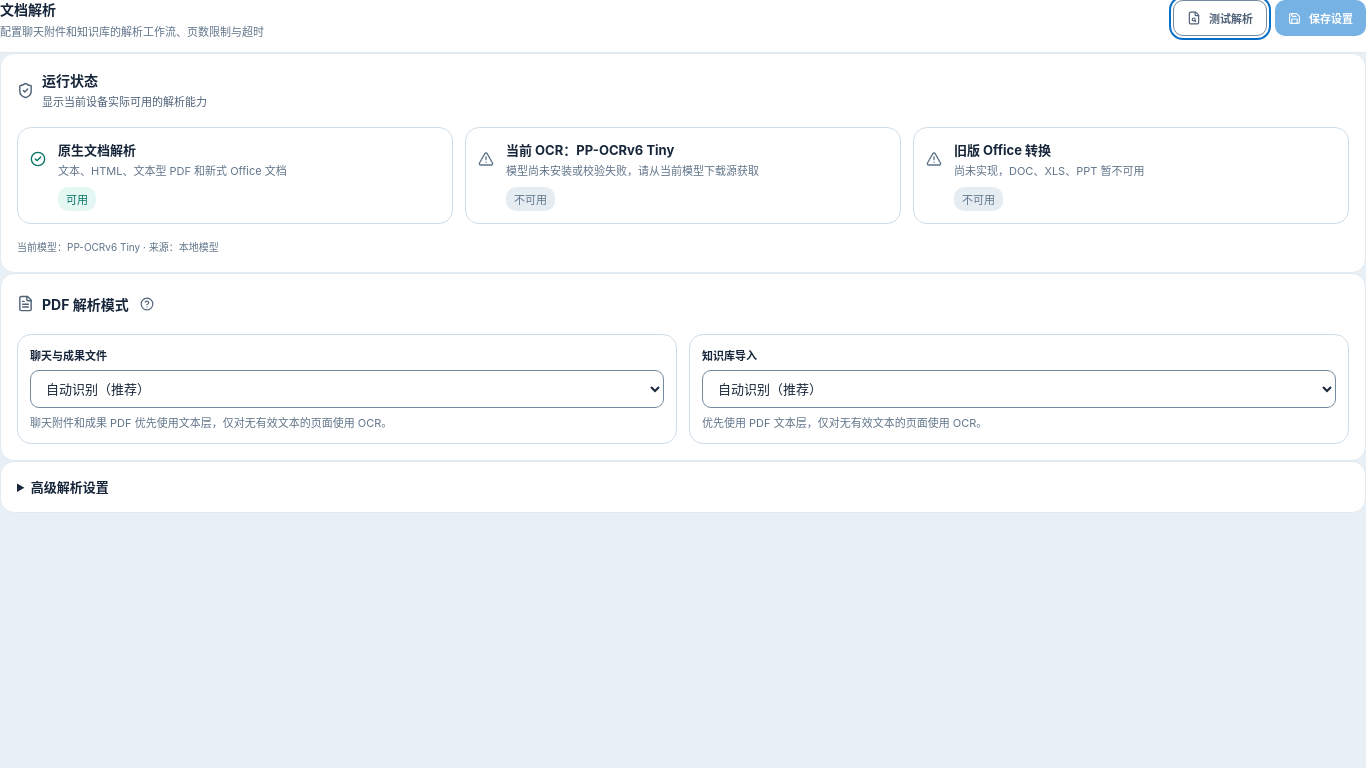
Test case: DocumentParsingSettingsSection › runs a real-file diagnostic flow and displays its result
Check: the text "当前模型：PP-OCRv6 Tiny · 来源：本地模型" is shown, box [17, 241, 219, 253]
Click the button "测试解析": (1220, 18) [1173, 0, 1267, 36]
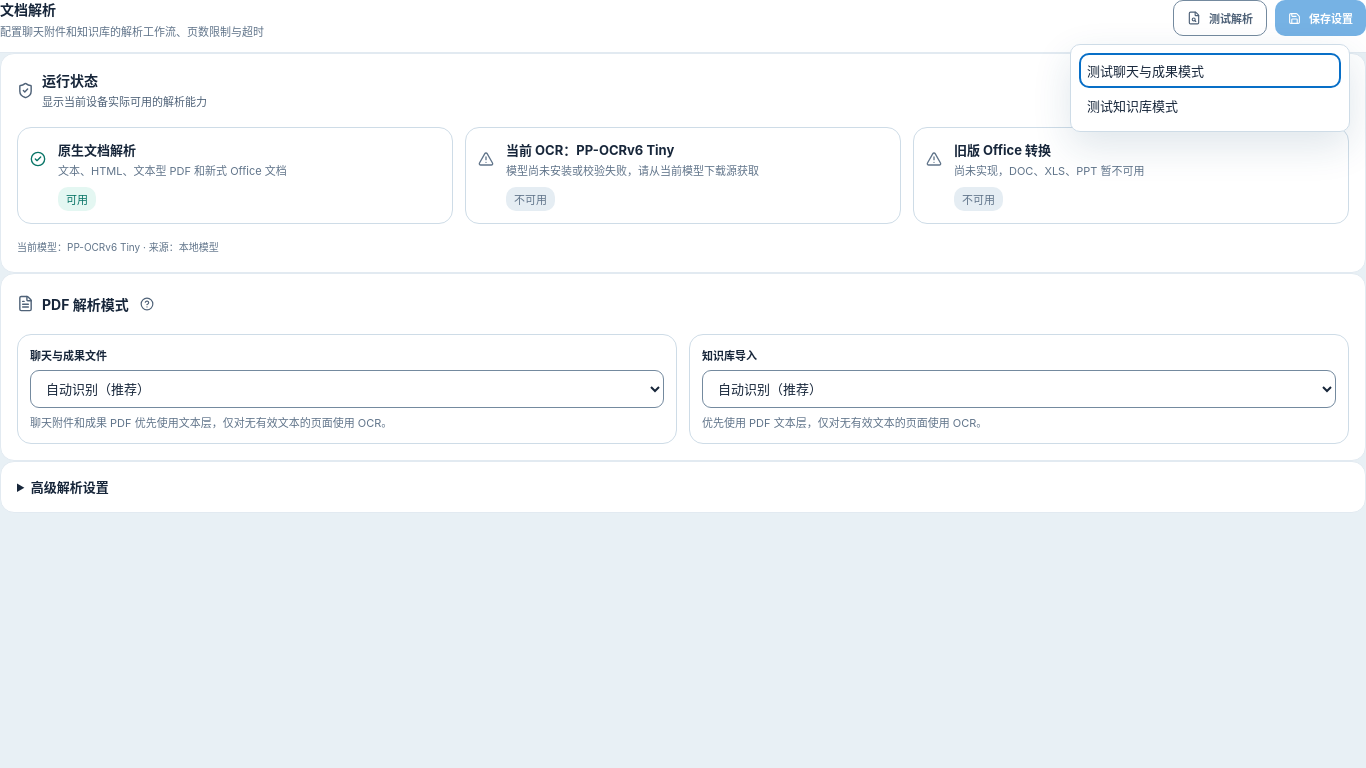
Click the menu item "测试聊天与成果模式": (1146, 71) [1079, 53, 1341, 88]
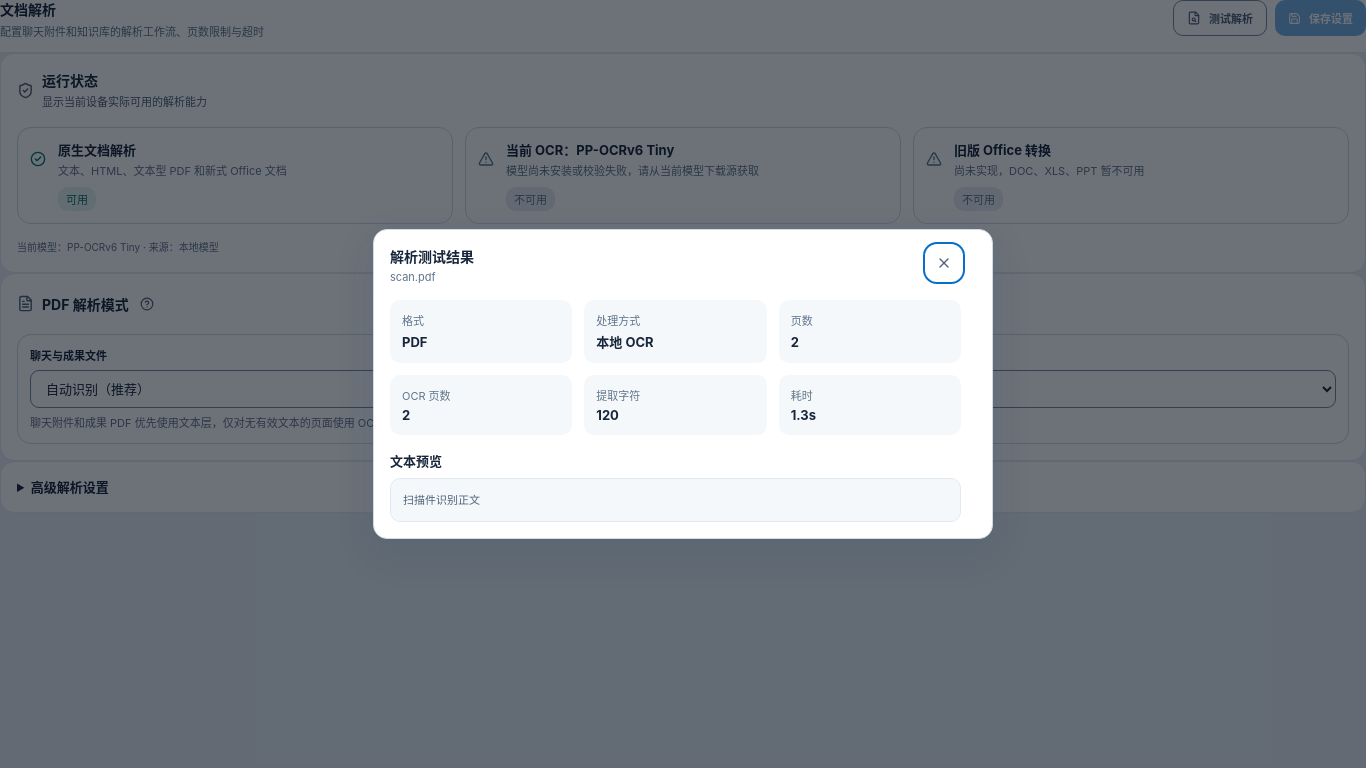
Check: the dialog "解析测试结果" shows "扫描件识别正文", box [403, 492, 480, 508]
Press Tab in the dialog "解析测试结果", box [373, 230, 993, 538]
Press Escape in the dialog "解析测试结果", box [373, 230, 993, 538]
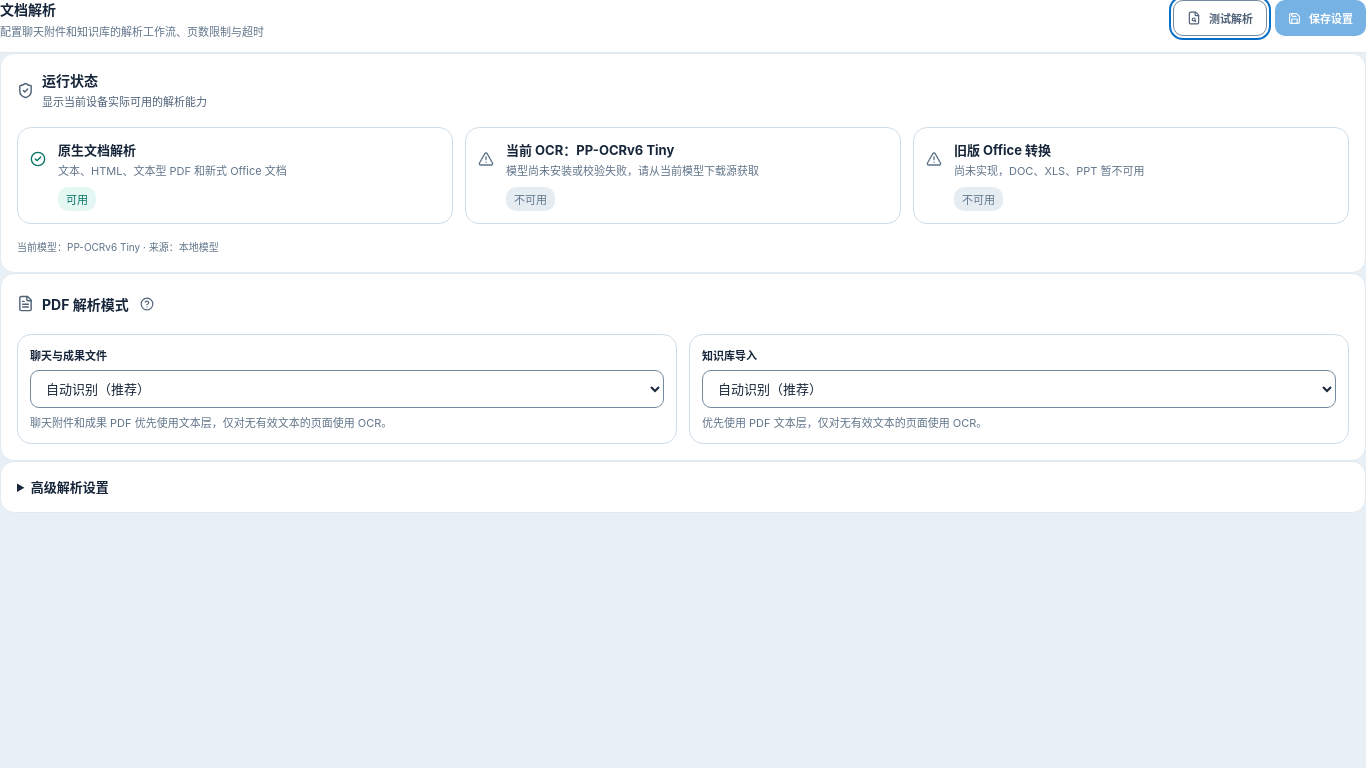
Check: the dialog is gone
